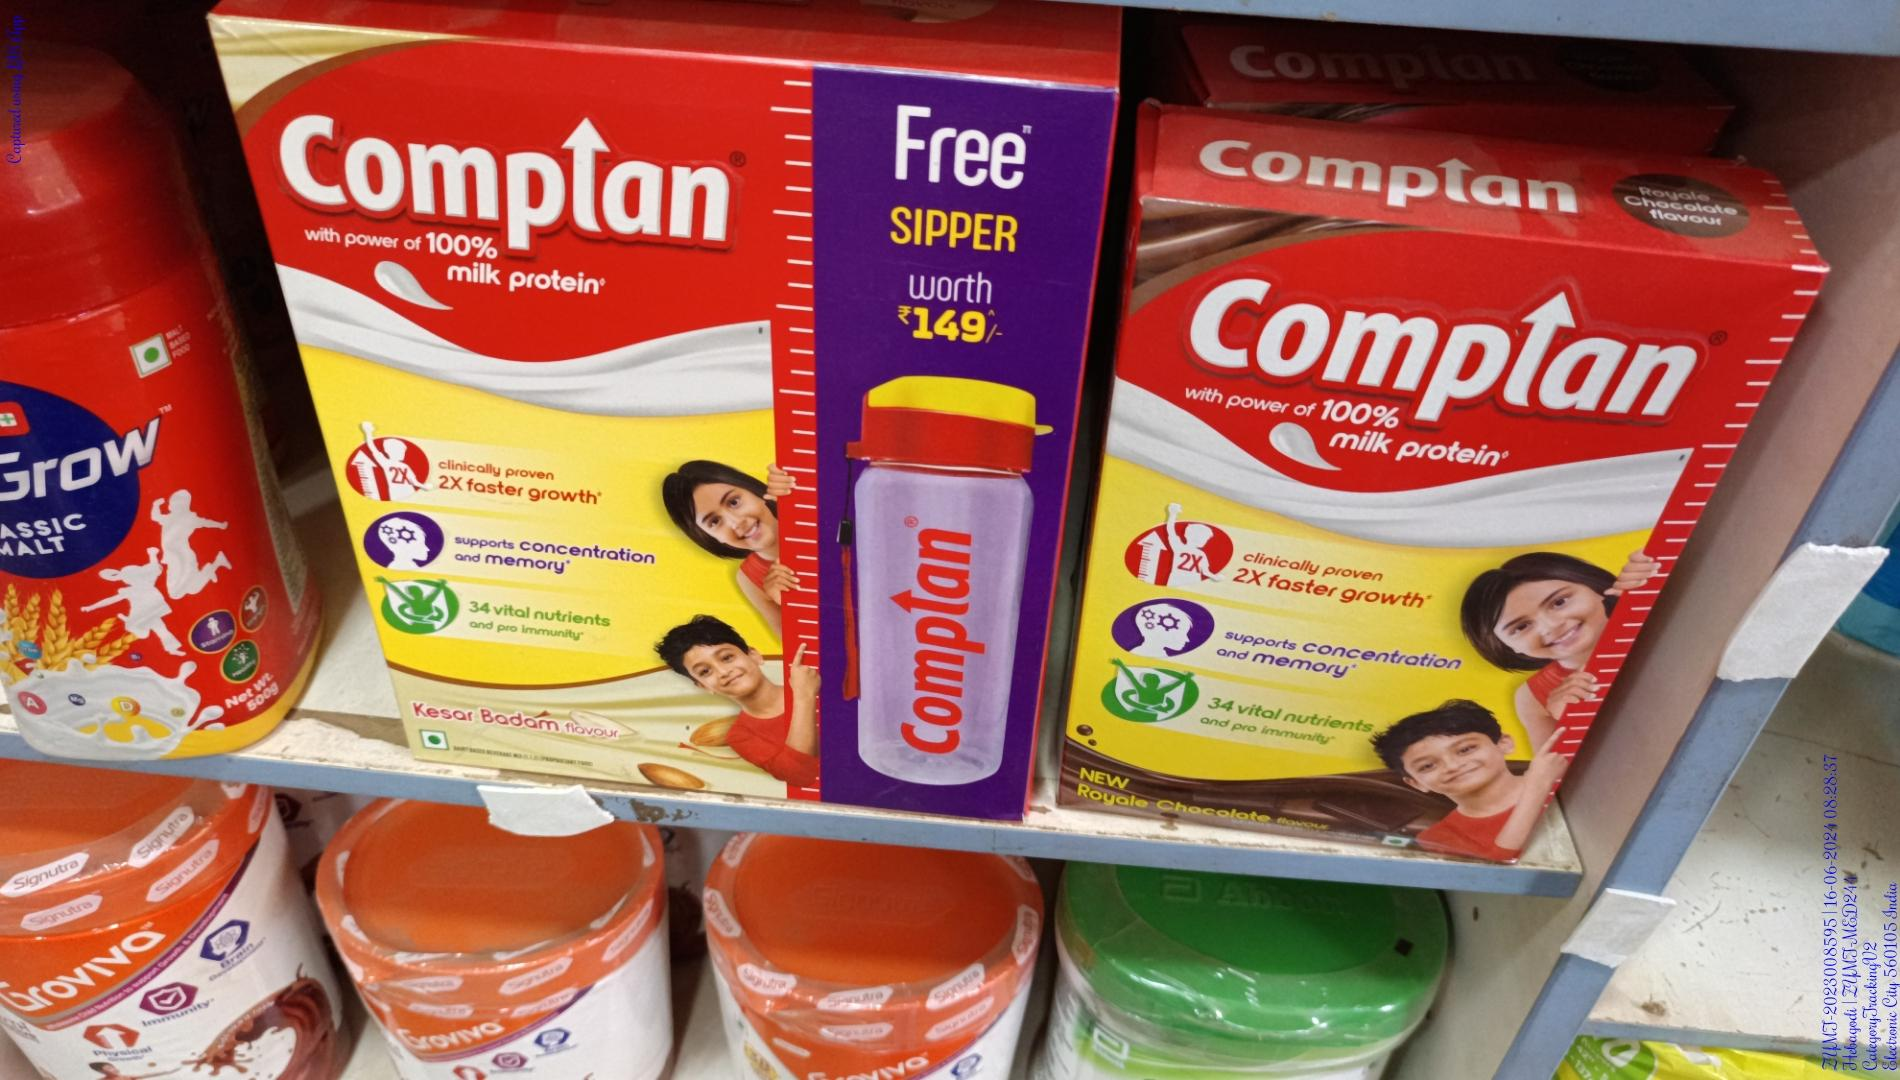COMPLAN_CHOCOLATE_200_GMS_JAR: (1104, 213, 1662, 886)
